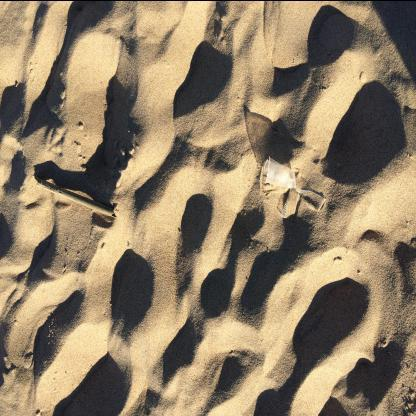plastik: (264, 157, 326, 219)
